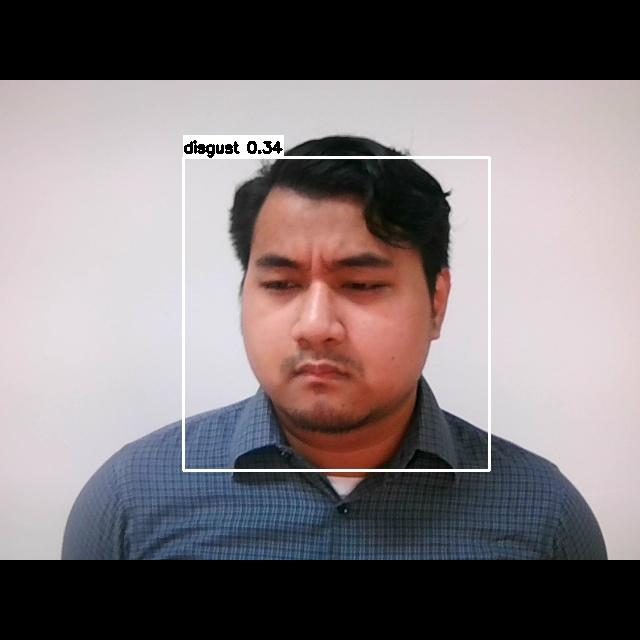Angry: (241, 236, 421, 404)
